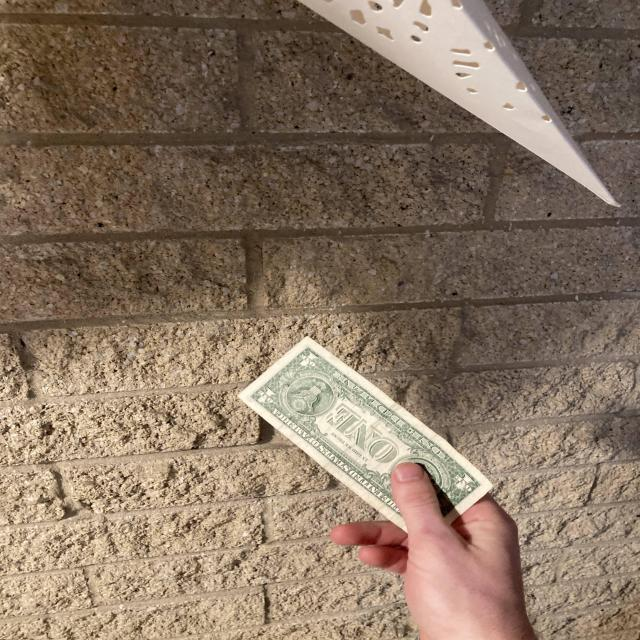one: (235, 335, 496, 547)
